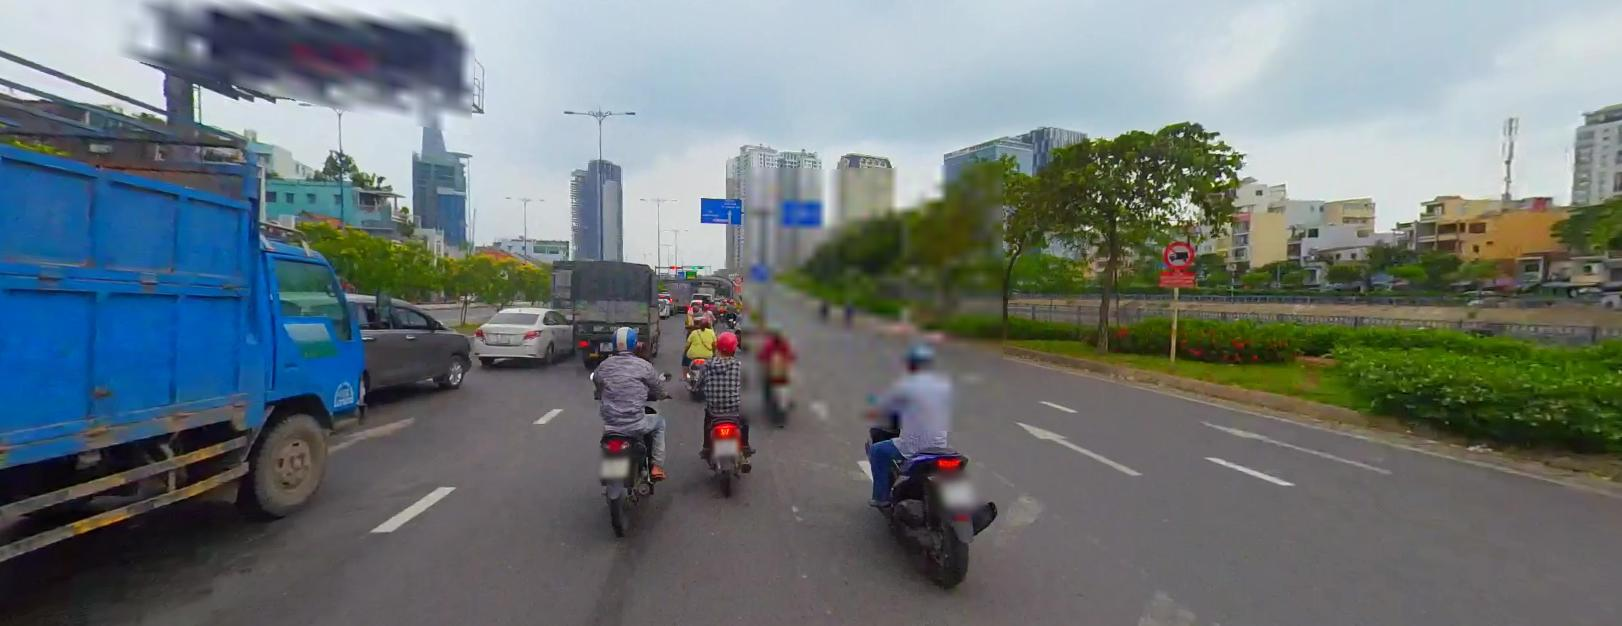Cam con lai: (1162, 238, 1194, 268)
